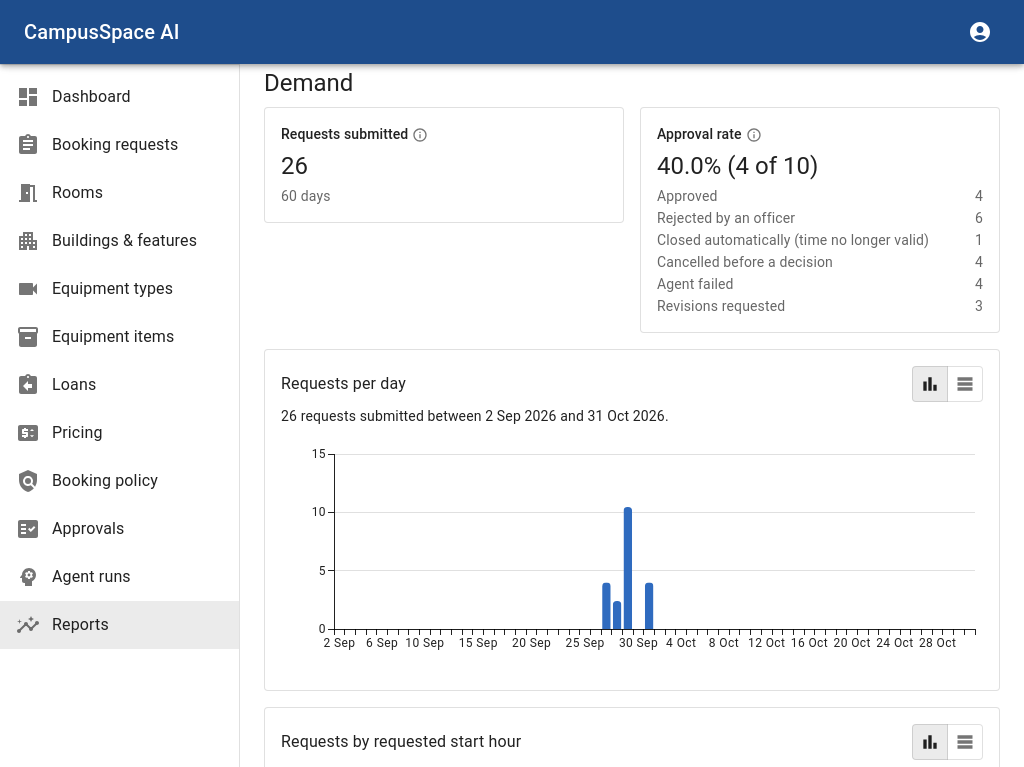
Reports page › shows the chart data as an accessible table
(page scrolled)
What coordinates should you click on to do the following:
click the button named "Show as table" in the row of "Requests per day"
I would click on:
 (965, 384)
Its box is [947,366,983,402].
(page scrolled)
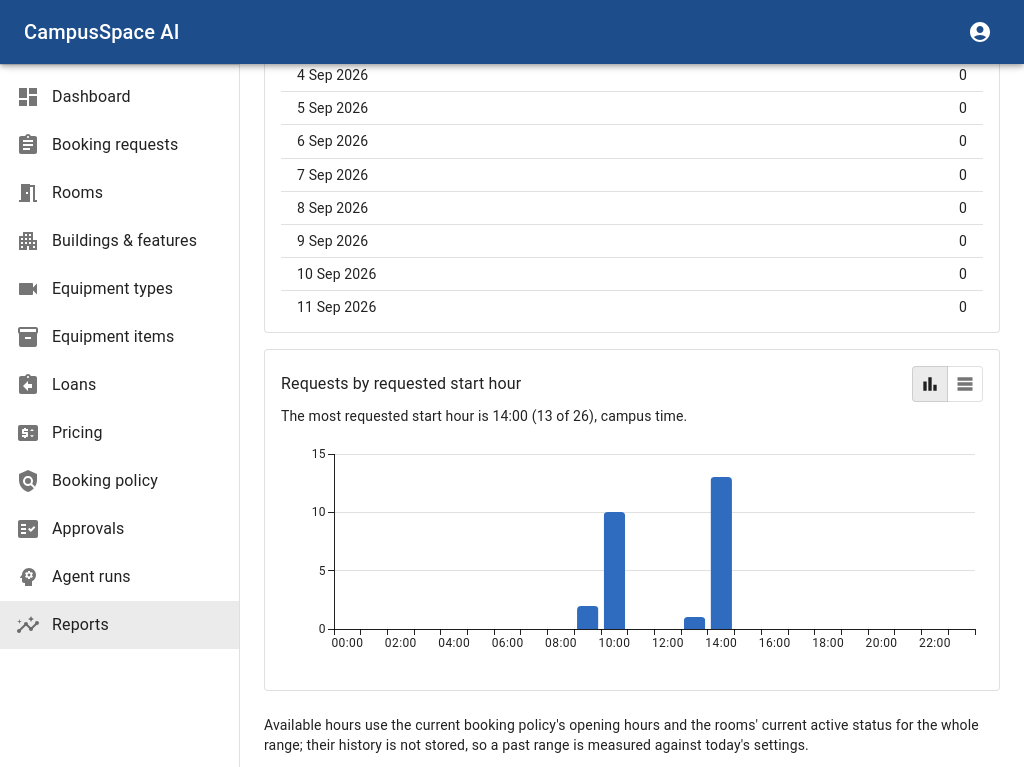
Expected: the element "Requests by requested start hour" shows "The most requested start hour is 14:00 (13 of 26), campus time.", [281,408,687,424]
What coordinates should you click on to do the following:
click the button named "Show as table"
I would click on:
 (965, 384)
Its box is [947,366,983,402].
(page scrolled)
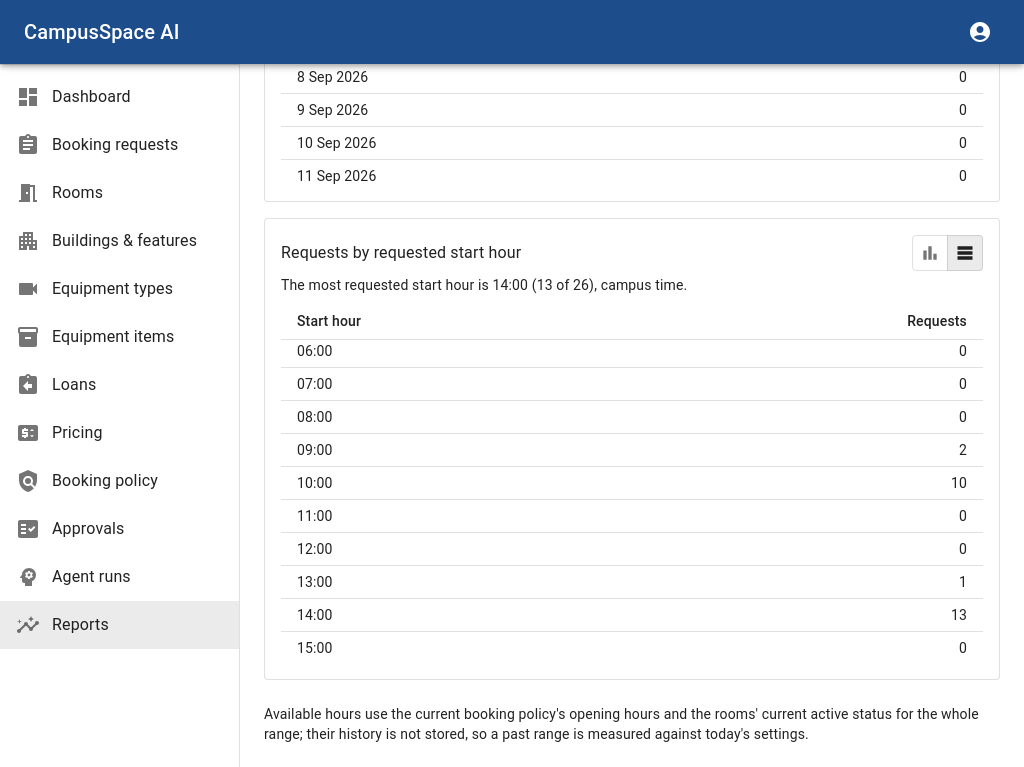
Expected: the row "10:00 10" is shown, [281,467,983,500]
